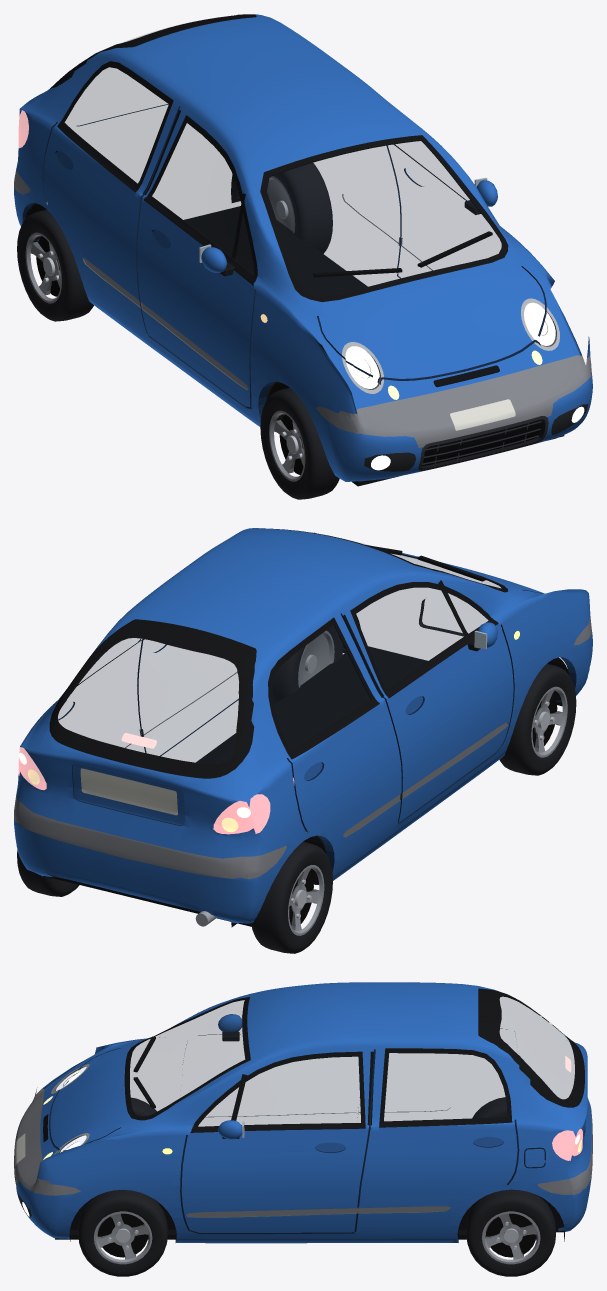
Rendered from car_city_blue.glb.
3 views of the same model, one above another, from view 1: azimuth 30°, elevation 25°; view 2: azimuth 150°, elevation 25°; view 3: azimuth 270°, elevation 25° (orthographic). The views are drawn at different scales.
Visible parts, largest first — view 1: body, wheel_fl, wheel_rl, wheel_rr; view 2: body, wheel_rl, wheel_fl, wheel_fr, wheel_rr; view 3: body, wheel_rr, wheel_fr, wheel_rl.
Part boxes in pixels (x1,y1,x2,y2): body: (14,14,592,486); wheel_fl: (260,387,339,499); wheel_rl: (17,209,93,321); wheel_rr: (267,162,332,253); body: (14,528,592,927); wheel_rl: (251,841,332,953); wheel_fl: (499,663,576,775); wheel_fr: (272,625,343,704); wheel_rr: (17,850,79,896); body: (14,982,592,1243); wheel_rr: (466,1189,555,1276); wheel_fr: (78,1189,167,1276); wheel_rl: (472,1097,542,1148).
Size of the model in its own units: 1.62 by 1.49 by 3.51.
